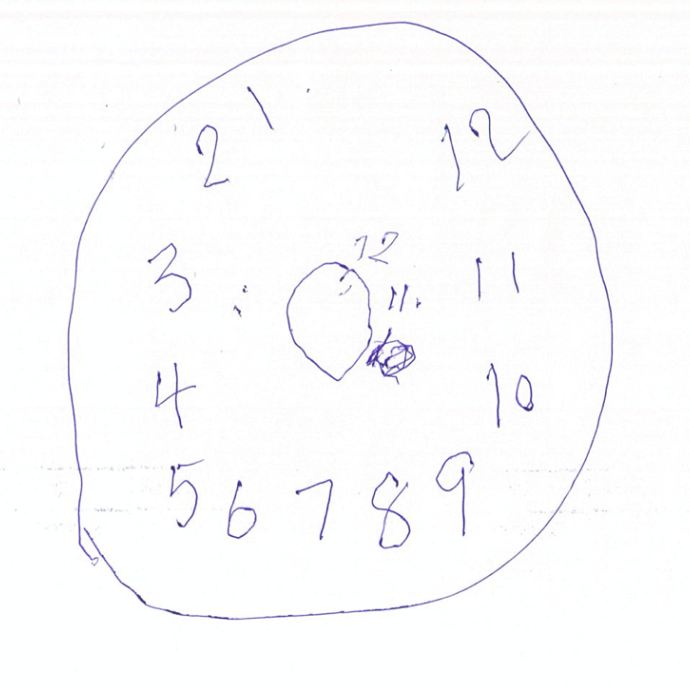1: (245, 80, 275, 137)
10: (482, 361, 540, 430)
11: (473, 251, 528, 303)
12: (438, 104, 532, 187)
2: (192, 120, 233, 189)
3: (148, 238, 196, 317)
4: (149, 359, 199, 429)
5: (165, 455, 206, 530)
6: (221, 477, 260, 544)
7: (293, 478, 339, 541)
8: (364, 470, 415, 550)
9: (434, 450, 474, 541)
contour: (60, 18, 619, 625)
